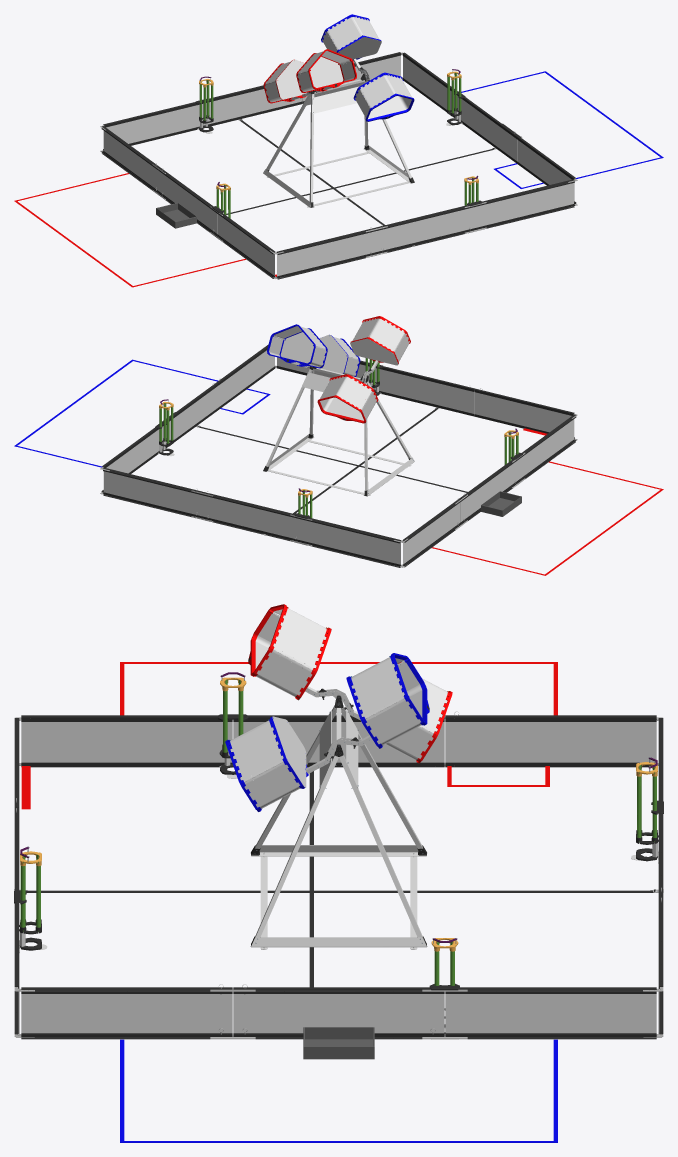
File: field.glb
3 renders of one model, top to bottom at view 1: azimuth 30°, elevation 25°; view 2: azimuth 150°, elevation 25°; view 3: azimuth 270°, elevation 25°, orthographic. The views are drawn at different scales.
Visible parts, largest first — view 1: perimeter, hive_blue, frame, hive_red, flower_4, flower_1, tray_2, flower_3, flower_2; view 2: perimeter, hive_red, hive_blue, frame, flower_4, tray_2, flower_3; view 3: perimeter, hive_blue, frame, hive_red, tray_1, flower_2, flower_1, flower_3, flower_4, tape_blue_1.
Boxes of the visible parts, box(x1,y1,x2,y2) form: perimeter: box(100, 52, 577, 279); hive_blue: box(321, 14, 414, 121); frame: box(263, 74, 414, 207); hive_red: box(263, 49, 356, 103); flower_4: box(446, 69, 465, 125); flower_1: box(195, 76, 213, 133); tray_2: box(156, 203, 196, 228); flower_3: box(212, 181, 230, 239); flower_2: box(464, 175, 482, 232); perimeter: box(100, 344, 577, 567); hive_red: box(317, 316, 410, 423); hive_blue: box(267, 324, 360, 376); frame: box(263, 366, 414, 496); flower_4: box(155, 399, 174, 455); tray_2: box(481, 491, 521, 516); flower_3: box(504, 428, 522, 484); perimeter: box(14, 711, 663, 1039); hive_blue: box(225, 653, 429, 811); frame: box(250, 695, 427, 949); hive_red: box(248, 604, 452, 763); tray_1: box(303, 1027, 374, 1059); flower_2: box(14, 846, 47, 952); flower_1: box(631, 757, 663, 863); flower_3: box(218, 672, 248, 778); flower_4: box(429, 938, 459, 1039); tape_blue_1: box(124, 1141, 553, 1142).
Size of the model in its own units: 6.38 by 1.7 by 3.65.
